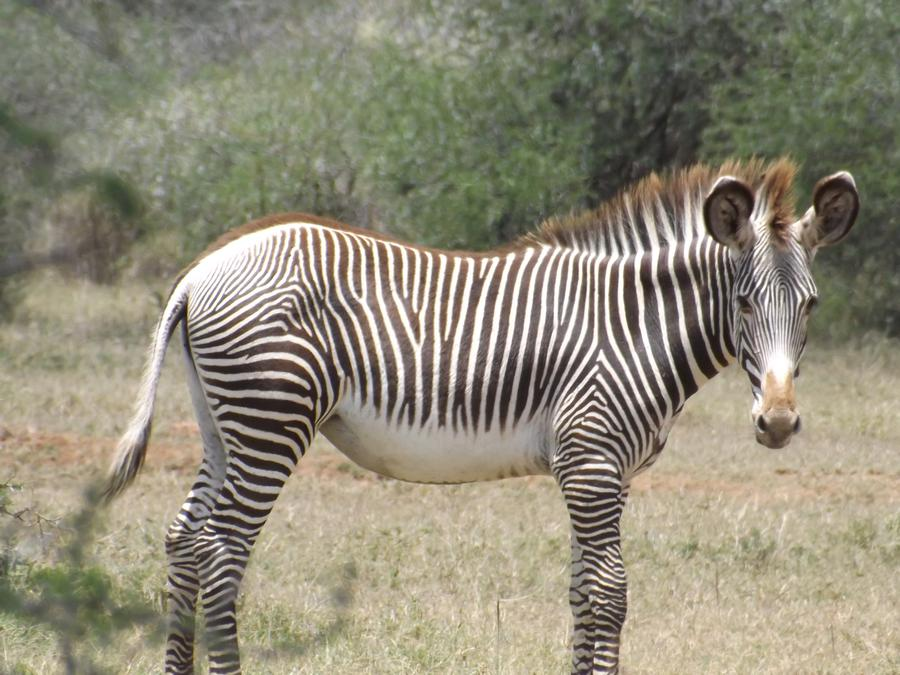zebra_grevys: (170, 190, 642, 474)
